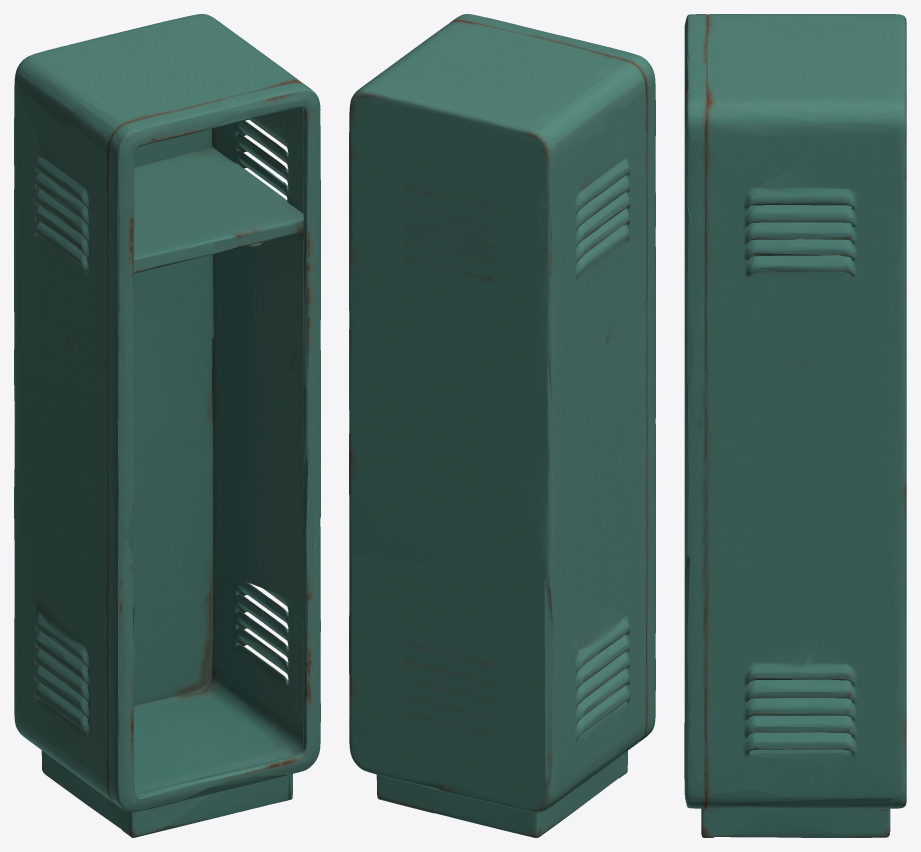
The model's file is armadietto_corpo.glb.
3 renders of one model, left to right at view 1: azimuth 30°, elevation 25°; view 2: azimuth 150°, elevation 25°; view 3: azimuth 270°, elevation 25°, orthographic. The views are drawn at different scales.
Visible parts, largest first — view 1: Mesh_0; view 2: Mesh_0; view 3: Mesh_0.
Boxes of the visible parts, <box> form: Mesh_0: <box>14,14,320,837</box>; Mesh_0: <box>349,14,655,837</box>; Mesh_0: <box>684,14,906,837</box>.
Bounding box in the file's own units: 0.5935 × 1.9 × 0.5169.
1 material, 1 textured.
